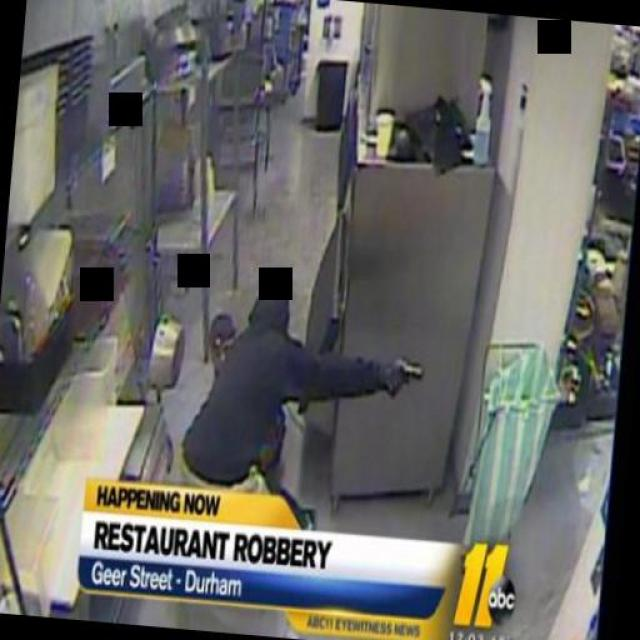gun: (380, 346, 430, 425)
